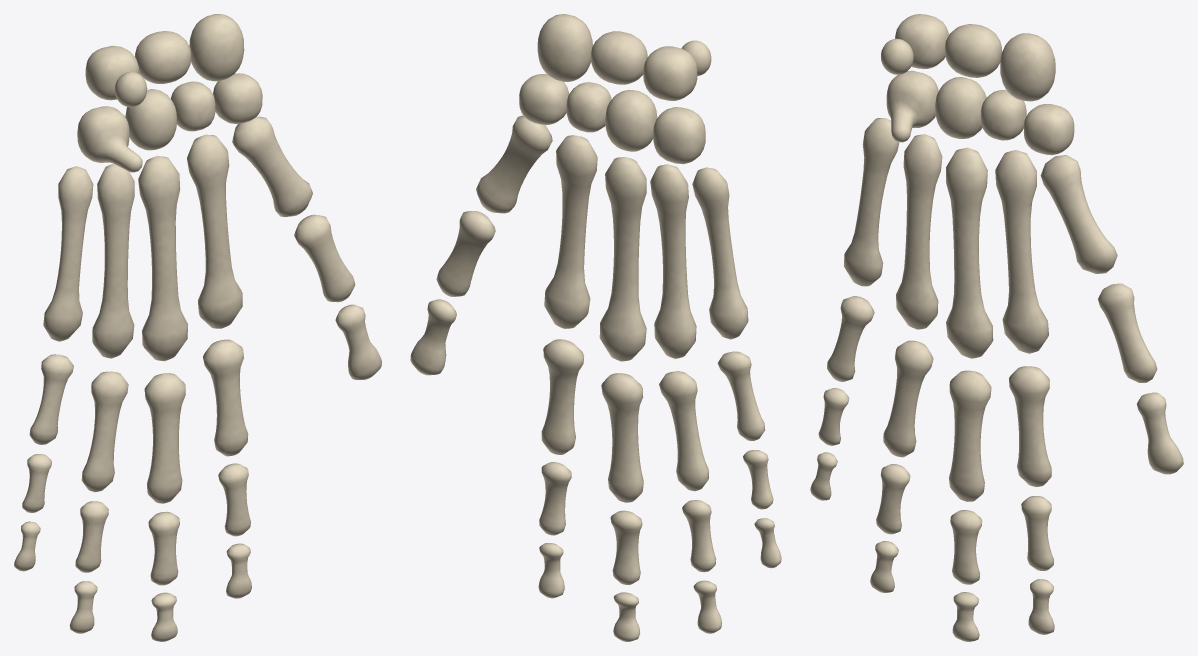
Rendered from hand-bones.glb.
3 views of the same model, side by side, from view 1: azimuth 30°, elevation 25°; view 2: azimuth 150°, elevation 25°; view 3: azimuth 330°, elevation 25° (orthographic).
Visible parts, largest first — view 1: Right metacarpal III, Right metacarpal II, Right metacarpal IV, Right metacarpal V, Right digit III proximal phalanx, Right metacarpal I, Right digit II proximal phalanx, Right digit IV proximal phalanx, Right scaphoid, Right hamate, Right digit I proximal phalanx, Right lunate (+15 smaller); view 2: Right metacarpal III, Right metacarpal II, Right metacarpal IV, Right metacarpal V, Right digit III proximal phalanx, Right metacarpal I, Right digit II proximal phalanx, Right digit IV proximal phalanx, Right scaphoid, Right digit I proximal phalanx, Right capitate, Right hamate (+15 smaller); view 3: Right metacarpal III, Right metacarpal II, Right metacarpal IV, Right metacarpal V, Right metacarpal I, Right digit III proximal phalanx, Right digit II proximal phalanx, Right digit IV proximal phalanx, Right scaphoid, Right digit I proximal phalanx, Right hamate, Right capitate (+15 smaller).
Boxes of the visible parts, box(x1,y1,x2,y2) form: Right metacarpal III: box(138, 155, 188, 361); Right metacarpal II: box(187, 134, 242, 328); Right metacarpal IV: box(92, 163, 134, 358); Right metacarpal V: box(43, 166, 93, 341); Right digit III proximal phalanx: box(144, 373, 185, 503); Right metacarpal I: box(232, 116, 312, 216); Right digit II proximal phalanx: box(203, 339, 248, 456); Right digit IV proximal phalanx: box(81, 371, 128, 492); Right scaphoid: box(189, 14, 244, 81); Right hamate: box(77, 106, 142, 172); Right digit I proximal phalanx: box(294, 214, 355, 302); Right lunate: box(135, 31, 191, 83); Right metacarpal III: box(599, 157, 646, 361); Right metacarpal II: box(544, 135, 597, 328); Right metacarpal IV: box(650, 164, 696, 359); Right metacarpal V: box(692, 167, 748, 339); Right digit III proximal phalanx: box(601, 373, 643, 502); Right metacarpal I: box(476, 115, 552, 213); Right digit II proximal phalanx: box(541, 339, 583, 454); Right digit IV proximal phalanx: box(659, 371, 708, 491); Right scaphoid: box(537, 14, 592, 81); Right digit I proximal phalanx: box(436, 211, 495, 296); Right capitate: box(605, 90, 657, 151); Right hamate: box(653, 107, 705, 164); Right metacarpal III: box(946, 147, 993, 358); Right metacarpal II: box(995, 150, 1048, 353); Right metacarpal IV: box(896, 134, 942, 329); Right metacarpal V: box(844, 118, 899, 286); Right metacarpal I: box(1040, 155, 1117, 273); Right digit III proximal phalanx: box(949, 370, 991, 501); Right digit II proximal phalanx: box(1009, 366, 1051, 487); Right digit IV proximal phalanx: box(883, 340, 933, 457); Right scaphoid: box(1000, 33, 1055, 101); Right digit I proximal phalanx: box(1098, 283, 1157, 382); Right hamate: box(886, 70, 938, 142); Right capitate: box(935, 77, 986, 138).
Size of the model in its own units: 0.1228 by 0.195 by 0.024.
Materials: 1 (1 with a texture image).
